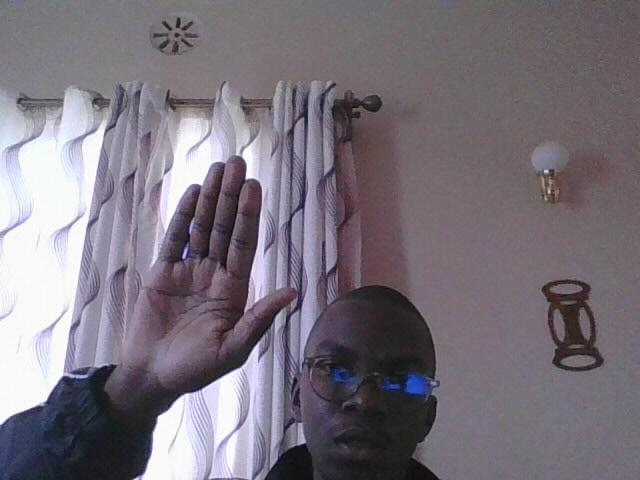paper: (113, 130, 306, 421), (115, 151, 303, 401)
